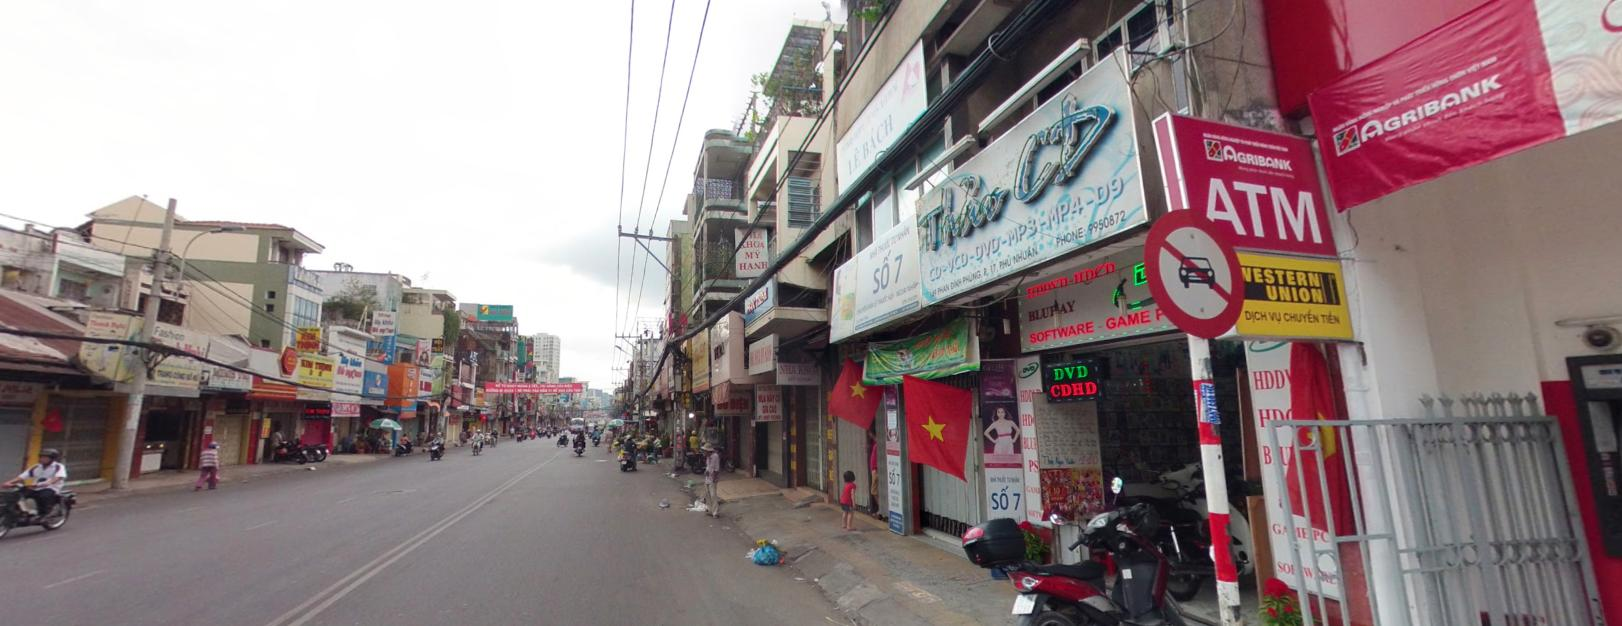Cam con lai: (1142, 204, 1243, 340)
